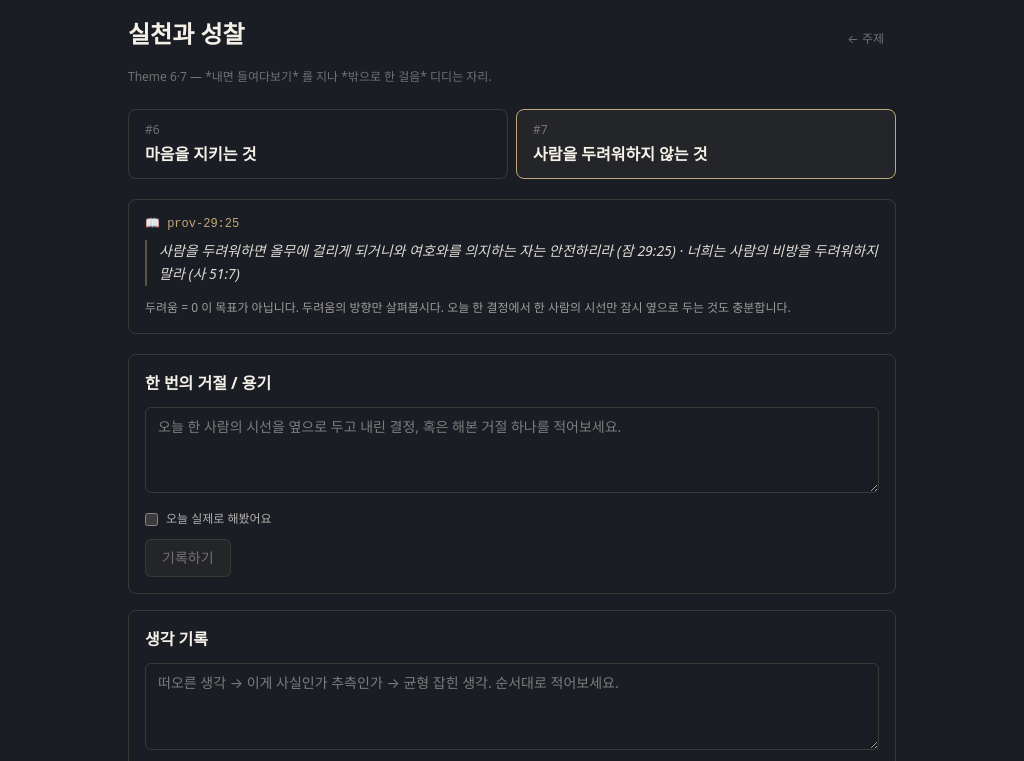
it: /topics/practice › 저장 중에는 버튼이 '기록 중...' 으로 잠겨 중복 전송을 막는다
Step 1. Type "생각 하나" into the text box with placeholder "떠오른 생각 → 이게 사실인가 추측인가 → 균형 잡힌 생각. 순서대로 적어보세요." → (512,706), box [145,663,879,750]
(page scrolled)
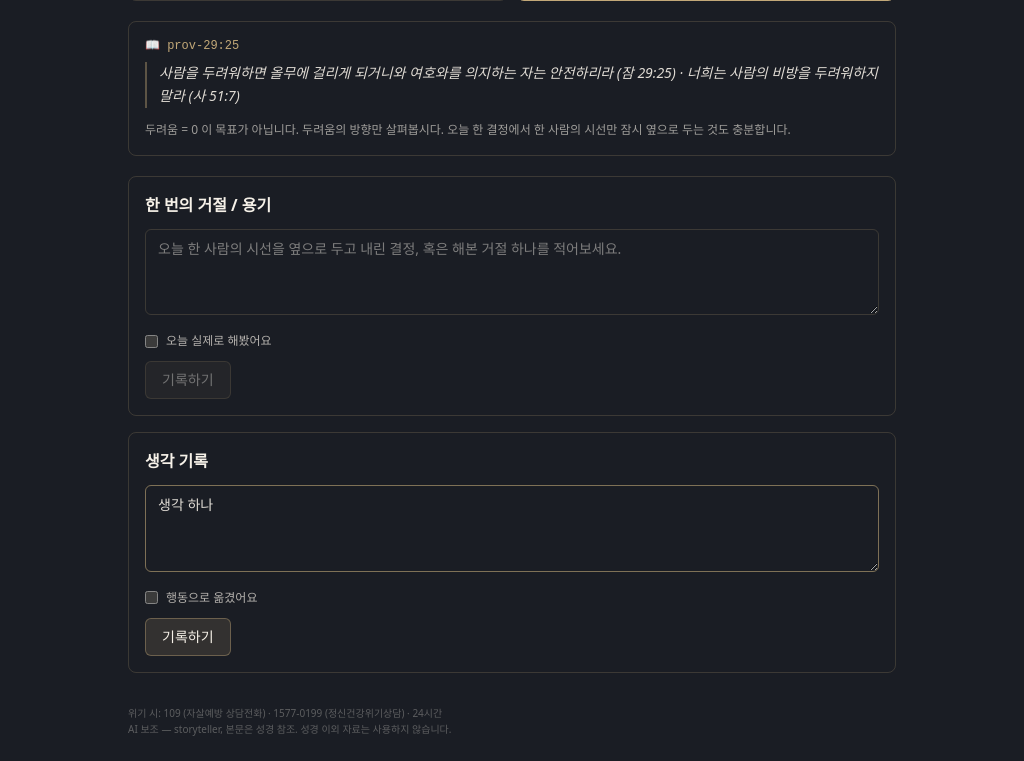
Step 2. Click the button "기록하기" below "행동으로 옮겼어요" → (188,636), box [145,618,230,656]
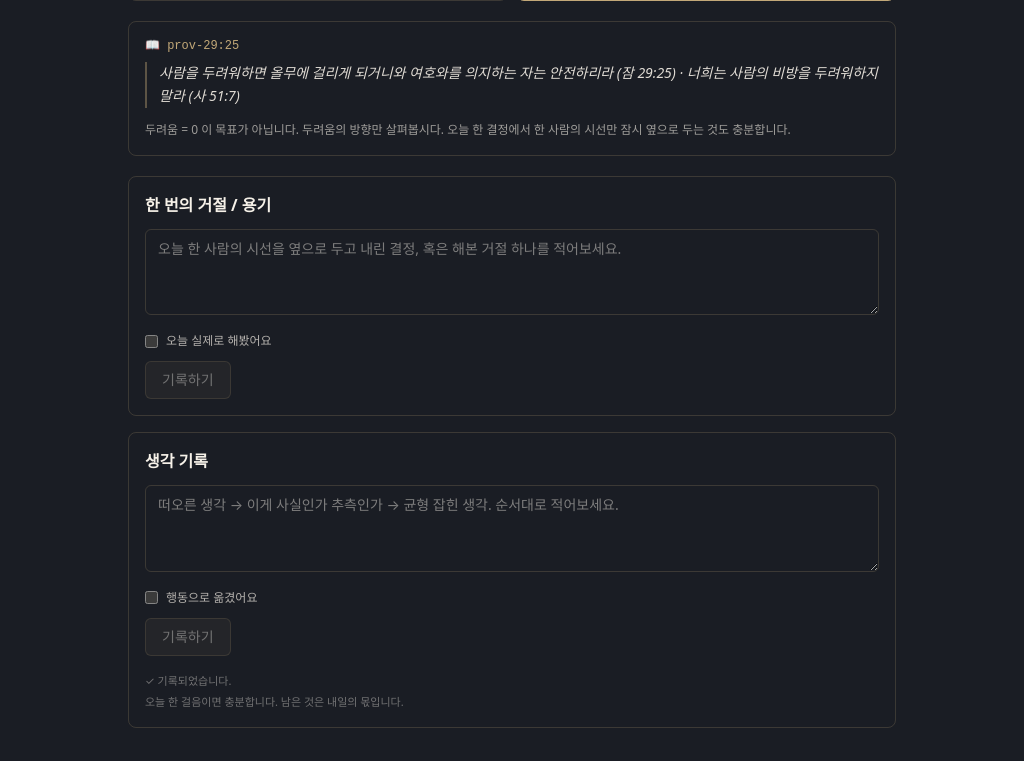
Result: the button named "기록 중..." is disabled at [145,618,230,656]
